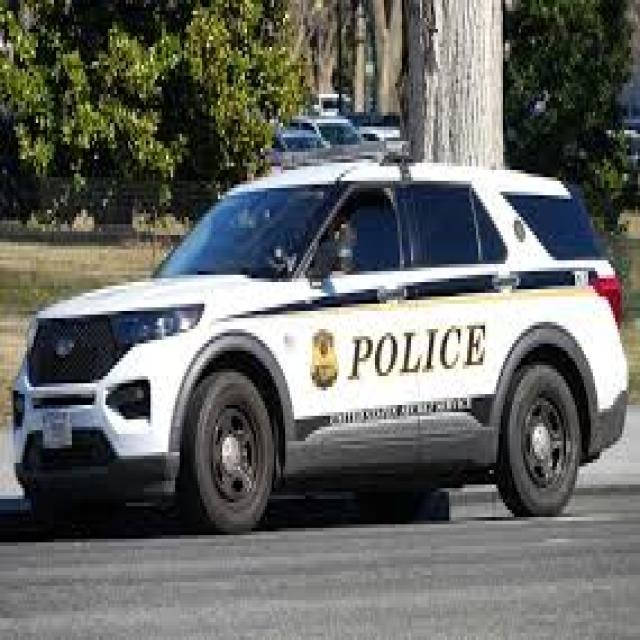cop: (9, 142, 639, 538)
